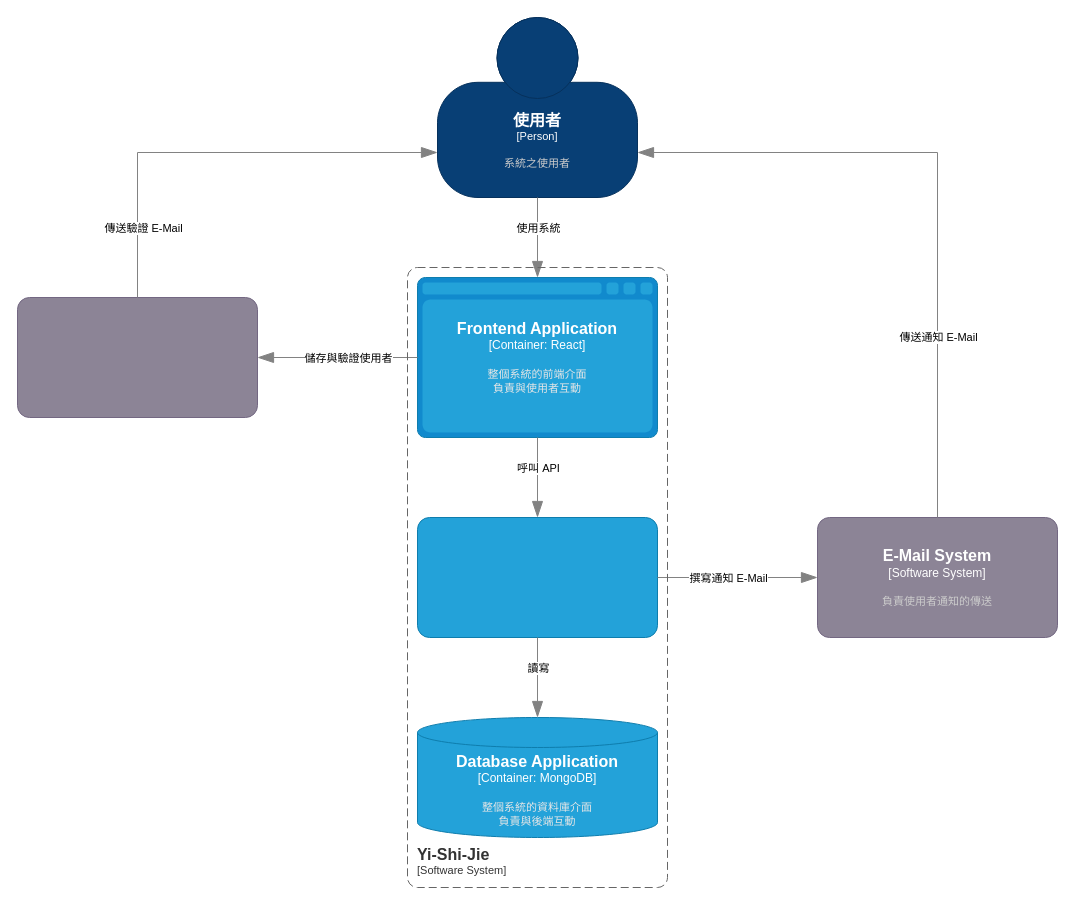
Some shapes in this 1075 by 905 pixel diagram are drawn without their labels. Here are the shapes that lost their labels. From the top down, the centre of each, then its label:
the point at 137,357: Firebase Authentication System [Software System] 負責使用者帳號密碼的儲存與驗證
the point at 537,577: Backend Application [Container: SpringBoot] 整個系統的後端介面 負責與前端互動
